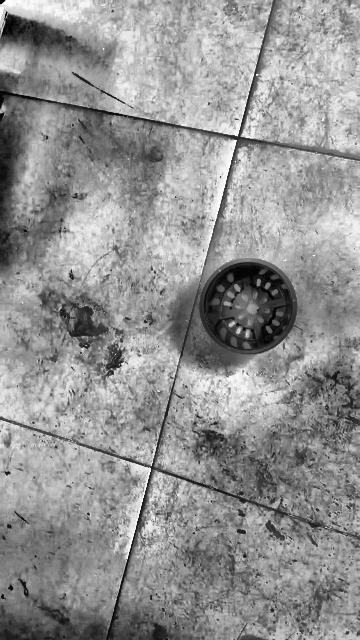pot: (199, 260, 297, 353)
